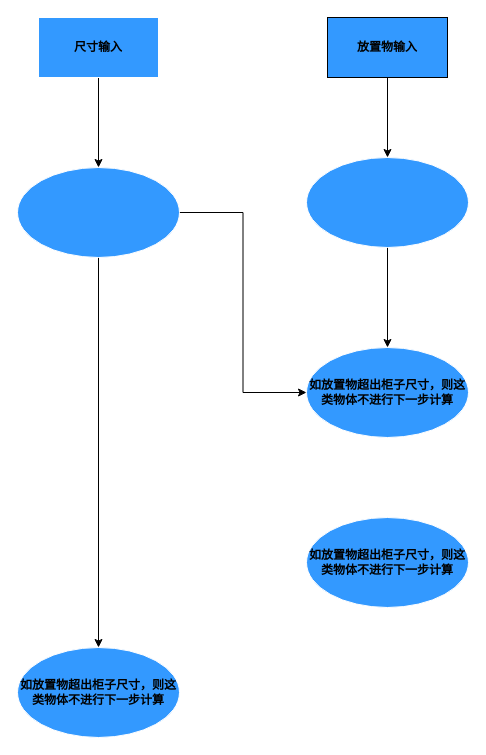
This 486x755 diagram has some shape labels left out. Each missing label, with the centre of its shape:
根据默认的合理尺寸范围进行筛判，限制最大和最小尺寸: the point at 98,212
获取每类放置物的Bounding尺寸: the point at 387,202
